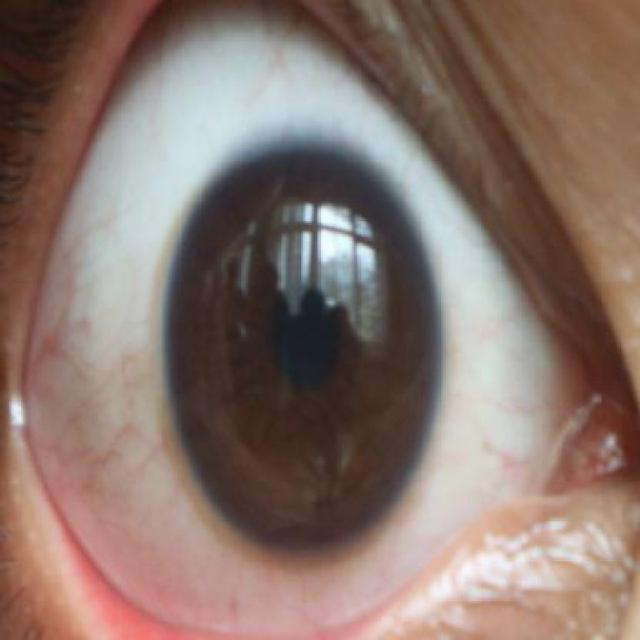Normal: (164, 144, 443, 556)
